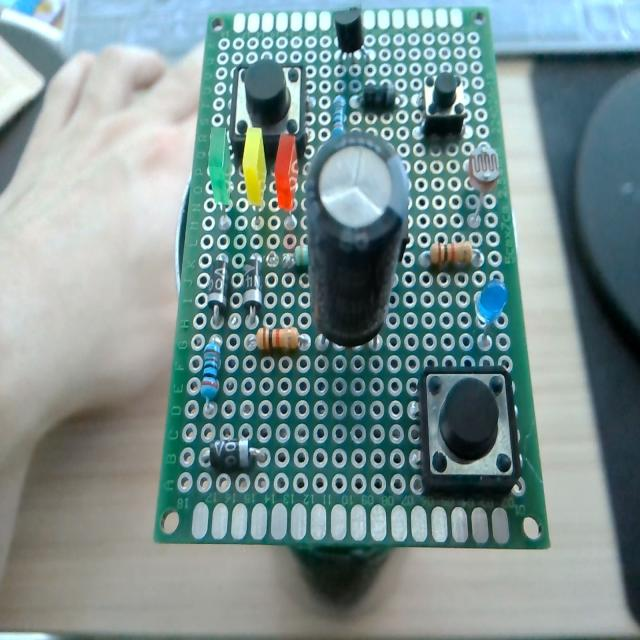Electrolytic capacitor: (298, 134, 411, 358)
cds: (468, 144, 501, 223)
diode: (208, 440, 262, 470), (207, 255, 229, 322), (242, 254, 262, 319), (362, 82, 396, 110)
led: (475, 279, 516, 357), (241, 120, 271, 224), (209, 126, 234, 235), (275, 126, 301, 227)
resistor: (200, 337, 223, 401), (256, 327, 299, 353), (431, 242, 472, 268), (328, 94, 346, 137), (294, 244, 309, 268)
switch: (418, 364, 521, 494), (230, 62, 307, 160), (422, 74, 464, 139)
transistor: (334, 5, 364, 54)
